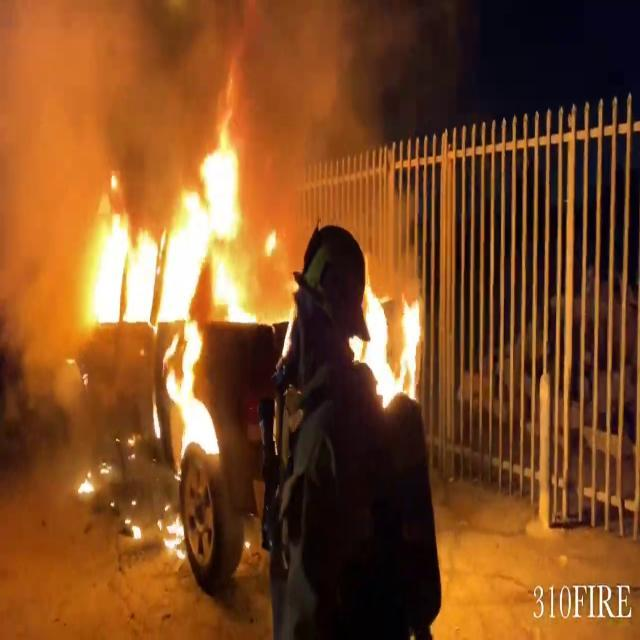Fire: (72, 114, 254, 468), (355, 258, 423, 408)
Smoke: (0, 0, 199, 234)
